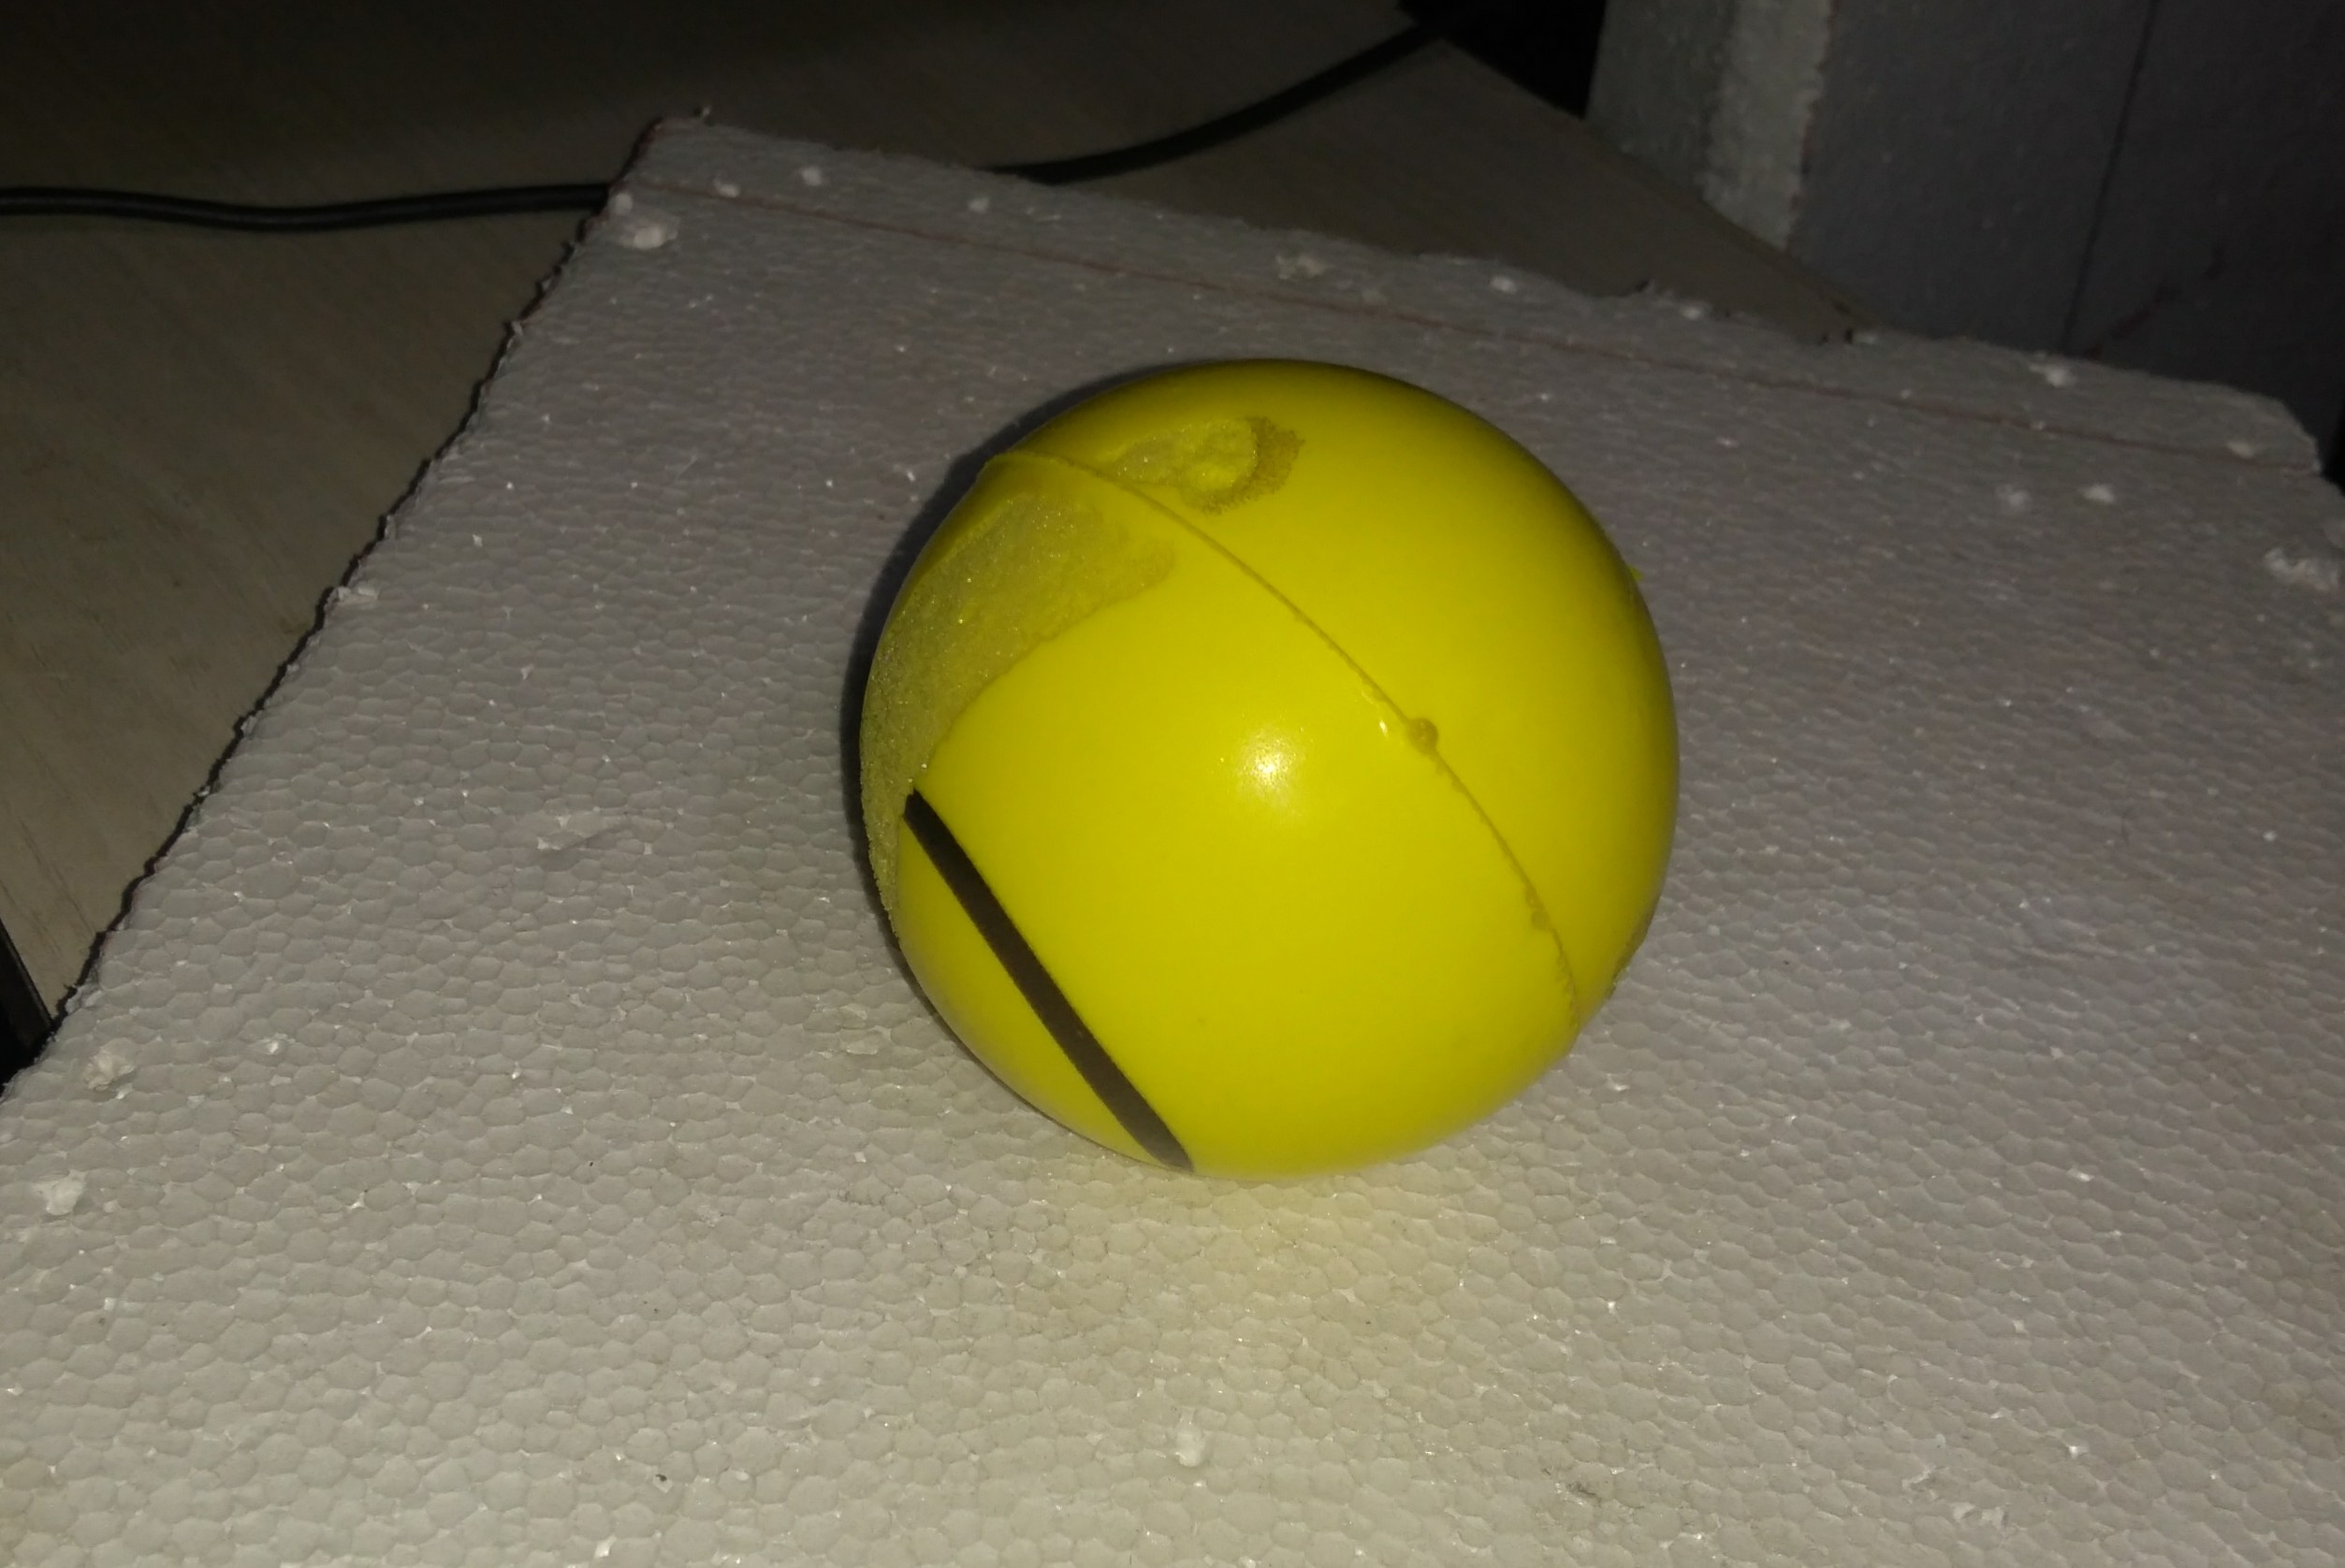ball: (845, 353, 1685, 1204)
